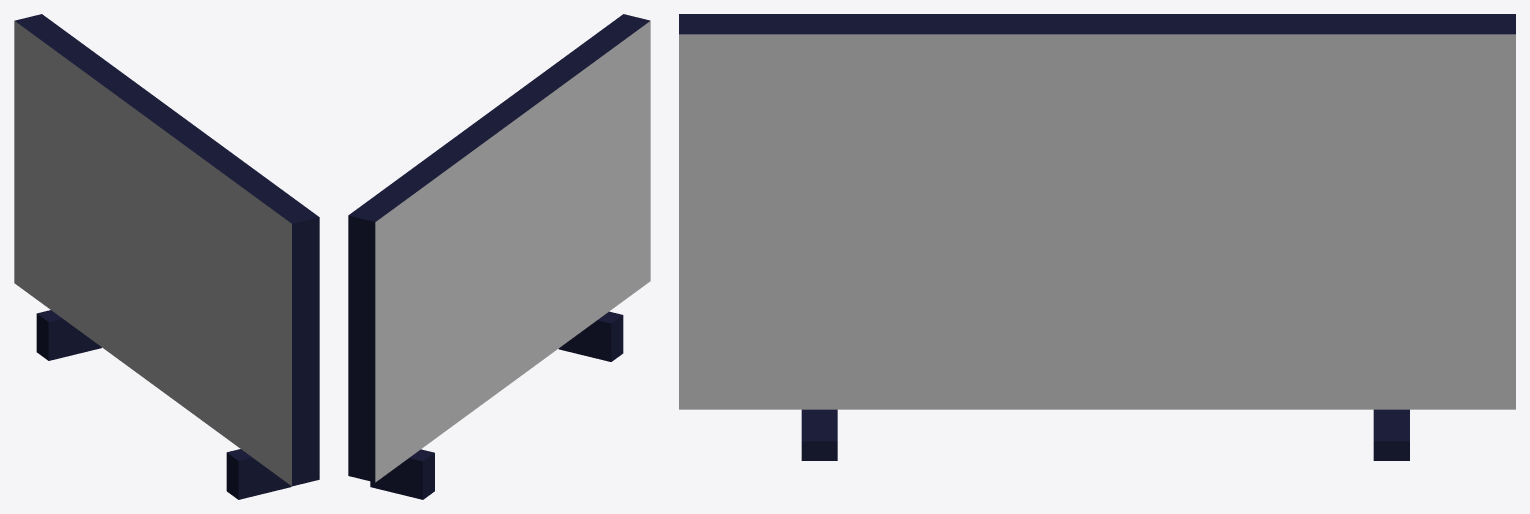
The model's file is sign.fbx.
The picture shows the model from 3 angles, left to right: view 1: azimuth 30°, elevation 25°; view 2: azimuth 150°, elevation 25°; view 3: azimuth 270°, elevation 25°; orthographic projection. The views are drawn at different scales.
Parts seen in each view (by area): view 1: Big Sign; view 2: Big Sign; view 3: Big Sign.
Part boxes in pixels (box(x1,y1,x2,y2)): Big Sign: box(14, 14, 319, 499); Big Sign: box(348, 14, 650, 499); Big Sign: box(679, 14, 1515, 460).
Size of the model in its own units: 42.43 by 231 by 383.
